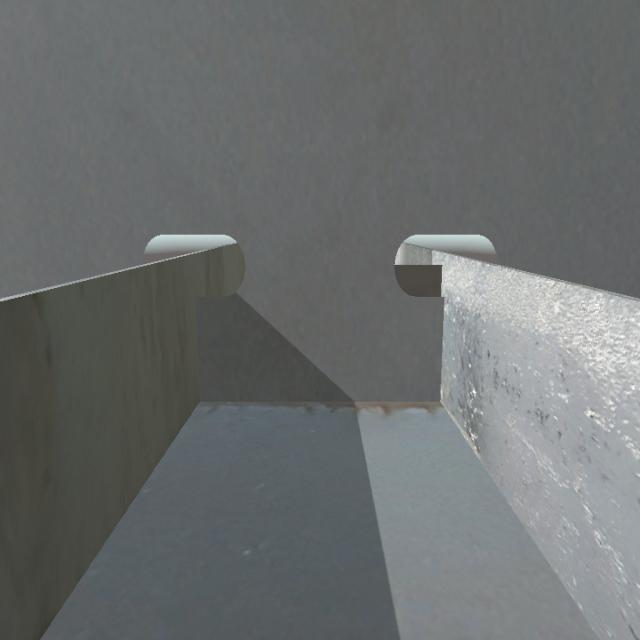fillet_yong_jeop_jang: (200, 393, 442, 418)
longi_yong_jeop_jang: (195, 295, 208, 402), (439, 298, 450, 408)
plate_behind: (393, 263, 445, 299)
